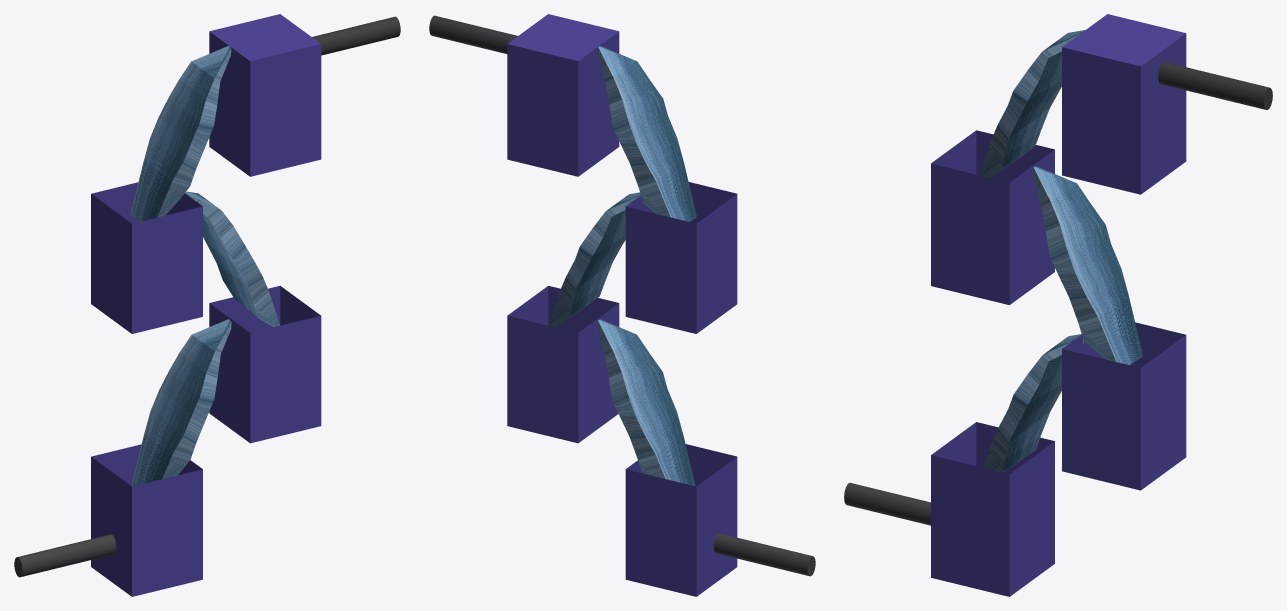
Rendered from model2Oasen.gltf.
The picture shows the model from 3 angles, left to right: view 1: azimuth 30°, elevation 25°; view 2: azimuth 150°, elevation 25°; view 3: azimuth 330°, elevation 25°; orthographic projection. The views are drawn at different scales.
Visible parts, largest first — view 1: Cube, Cube.001, Cube.003, Cube.004, Plane, Plane.002, Plane.001, Cylinder.001, Cylinder; view 2: Cube, Cube.001, Cube.003, Cube.004, Plane, Plane.002, Plane.001, Cylinder.001, Cylinder; view 3: Cube, Cube.004, Cube.003, Cube.001, Plane.001, Plane, Plane.002, Cylinder, Cylinder.001.
Part boxes in pixels (x1,y1,x2,y2): Cube: (209,14,321,176); Cube.001: (91,182,202,333); Cube.003: (209,286,321,443); Cube.004: (91,444,202,596); Plane: (130,46,231,221); Plane.002: (131,319,231,486); Plane.001: (185,191,279,327); Cylinder.001: (14,534,116,577); Cylinder: (312,16,400,55); Cube: (507,14,619,176); Cube.001: (625,182,737,333); Cube.003: (507,286,619,443); Cube.004: (625,444,737,596); Plane: (597,46,696,221); Plane.002: (597,319,695,486); Plane.001: (549,192,640,327); Cylinder.001: (713,533,815,576); Cylinder: (429,15,517,53); Cube: (1062,14,1186,194); Cube.004: (931,422,1054,596); Cube.003: (1062,322,1186,490); Cube.001: (931,130,1054,304); Plane.001: (1033,166,1142,365); Plane: (980,30,1084,177); Plane.002: (984,334,1085,472); Cylinder: (1158,62,1272,109); Cylinder.001: (844,483,930,525).
Bounding box in the file's own units: 10.66 × 13.66 × 2.
Materials: 6 (1 with a texture image).
